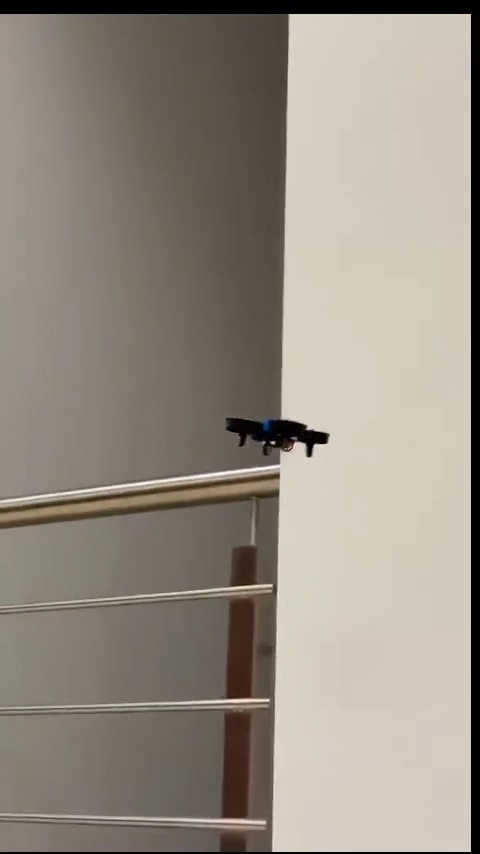drone: (225, 412, 327, 458)
